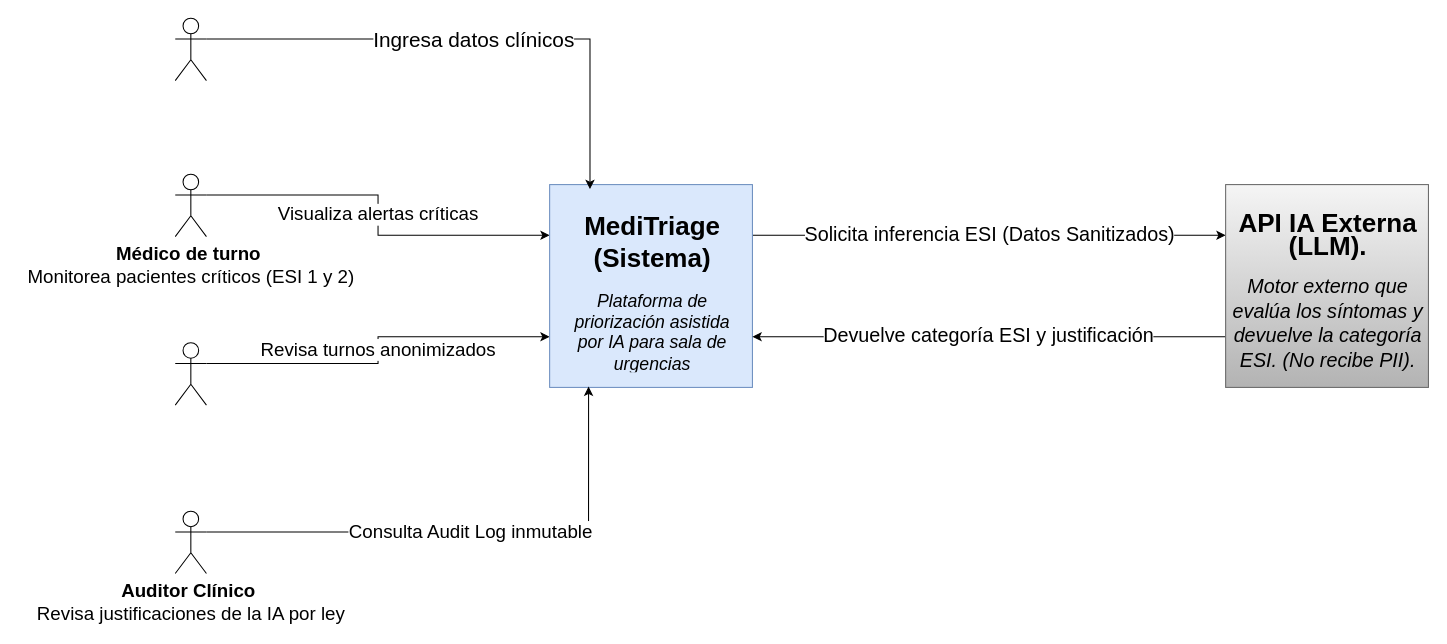
Image size: 1447x644. Some labels were removed from this diagram. The shapes that lost their labels are listed below. From the top down, each one's centre as x and y in pixels, then its label:
(190,49): Enfermero/a de Triage Ingresa signos vitales y valida gravedad
(190,373): Paciente Consulta su tiempo de espera en pantalla
